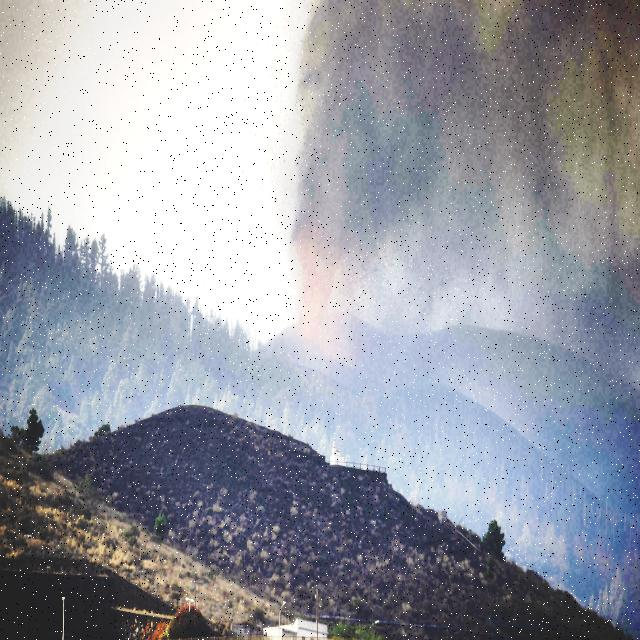asap: (257, 1, 640, 348)
